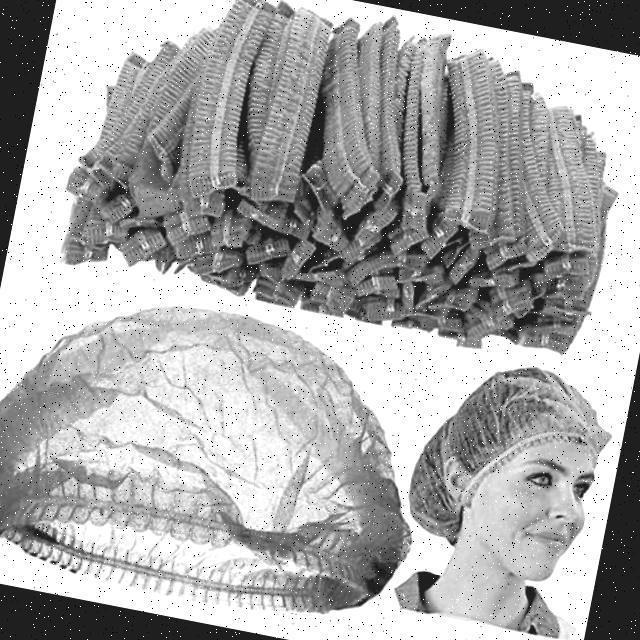gloves: (0, 296, 426, 630), (420, 374, 633, 476)
no_hairnet: (502, 484, 568, 554)
